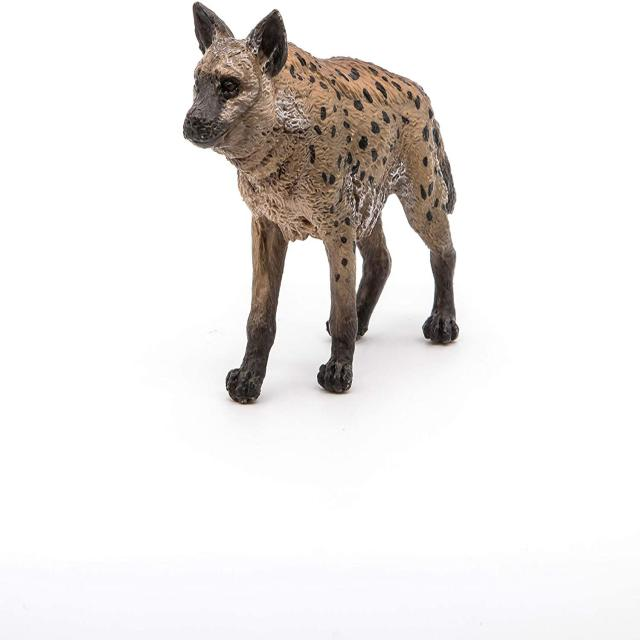Hyena: (166, 0, 464, 400)
